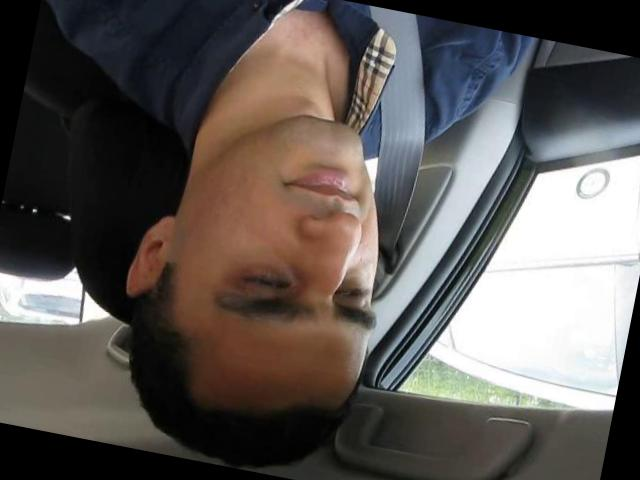eye_closed: (234, 261, 298, 298), (332, 278, 374, 316)
face: (174, 97, 413, 367)
